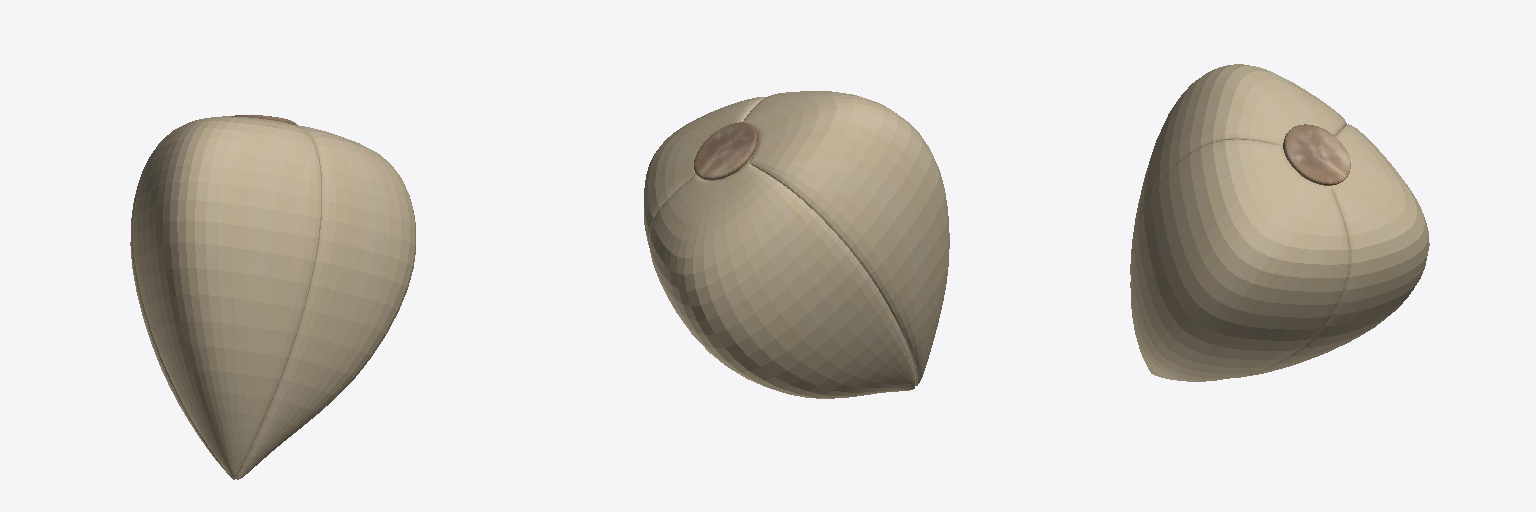
The picture shows the model from 3 angles: view 1: azimuth 30°, elevation 25°; view 2: azimuth 150°, elevation 25°; view 3: azimuth 270°, elevation 25°; orthographic projection.
Parts seen in each view (by area): view 1: GrainBuckwheat028; view 2: GrainBuckwheat028; view 3: GrainBuckwheat028.
Part boxes in pixels (x1,y1,x2,y2): GrainBuckwheat028: (130,115,415,479); GrainBuckwheat028: (644,91,949,398); GrainBuckwheat028: (1130,64,1429,381).
Size of the model in its own units: 0.0263 by 0.0305 by 0.0261.
Materials: 1 (1 with a texture image).